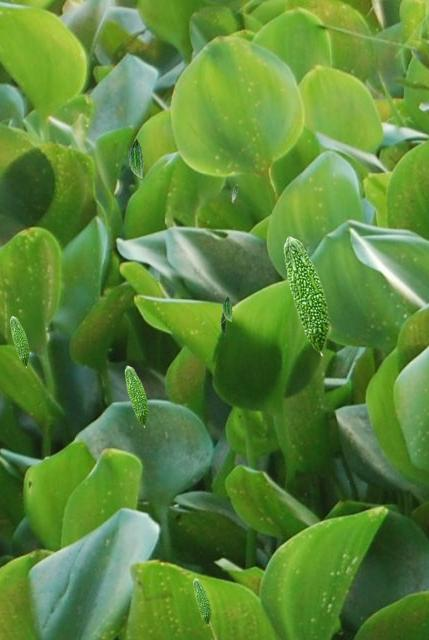ampalaya: (283, 236, 330, 357), (124, 365, 149, 428), (9, 315, 30, 368), (193, 578, 212, 626), (127, 137, 144, 179), (222, 295, 233, 322), (219, 314, 226, 336), (231, 183, 238, 203)
